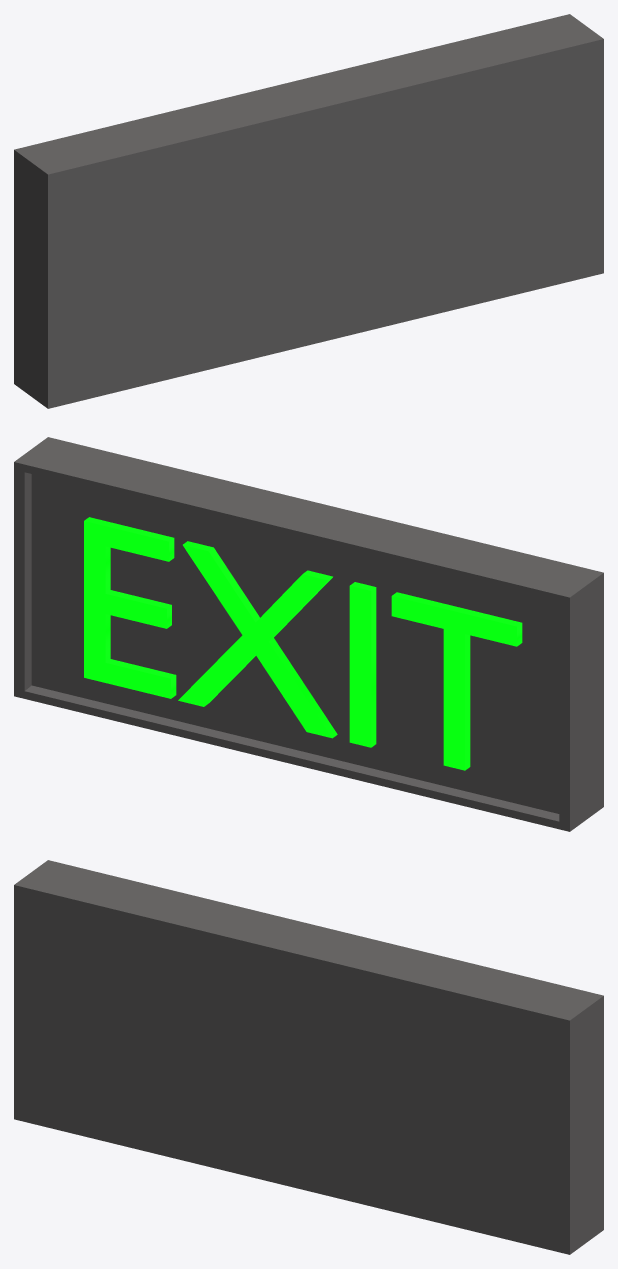
Rendered from EXIT.fbx.
The picture shows the model from 3 angles, top to bottom: view 1: azimuth 30°, elevation 25°; view 2: azimuth 150°, elevation 25°; view 3: azimuth 330°, elevation 25°; orthographic projection.
Parts seen in each view (by area): view 1: 立方体.243; view 2: 立方体.243; view 3: 立方体.243.
Part boxes in pixels (x1,y1,x2,y2): 立方体.243: (14, 14, 603, 408); 立方体.243: (14, 437, 603, 831); 立方体.243: (14, 860, 603, 1254).
Bounding box in the file's own units: 62.05 × 584 × 235.
